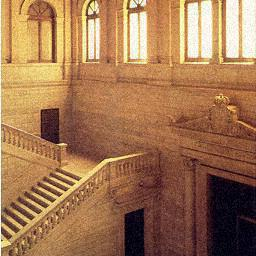Escaleras: (3, 145, 144, 255), (0, 121, 68, 166)
